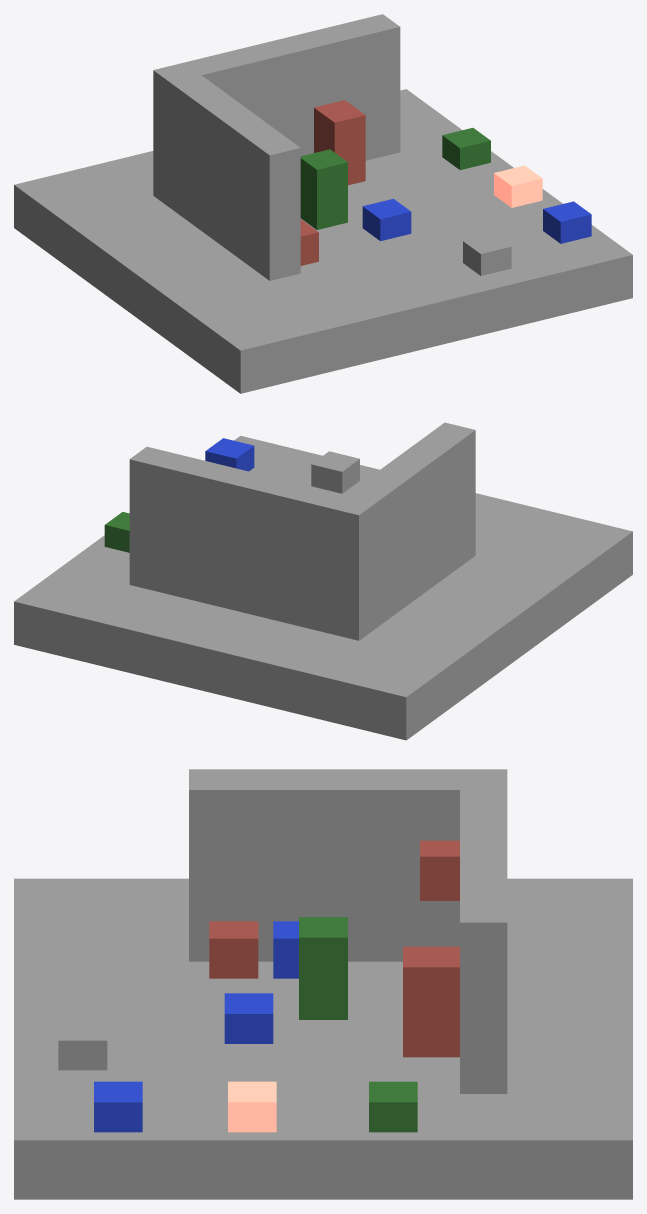
3 views of the same model, one above another, from view 1: azimuth 30°, elevation 25°; view 2: azimuth 150°, elevation 25°; view 3: azimuth 270°, elevation 25° (orthographic). The views are drawn at different scales.
Parts seen in each view (by area): view 1: Plane, Cube.001, Cube, Cube.004, Cube.003, Cube.007, LightCube, Cube.009, Cube.010, Cube.005; view 2: Plane, Cube.001, Cube.010, Cube.007, Cube.009; view 3: Plane, Cube.001, Cube.004, Cube, Cube.005, Cube.003, Cube.010, Cube.007, LightCube, Cube.009, Cube.002, Cube.006.
Part boxes in pixels (bbox=[...]): Plane: bbox=[14, 89, 632, 393]; Cube.001: bbox=[153, 14, 400, 280]; Cube: bbox=[300, 149, 347, 229]; Cube.004: bbox=[314, 100, 365, 185]; Cube.003: bbox=[362, 198, 411, 241]; Cube.007: bbox=[543, 201, 591, 243]; LightCube: bbox=[494, 165, 542, 207]; Cube.009: bbox=[442, 128, 490, 169]; Cube.010: bbox=[463, 233, 511, 275]; Cube.005: bbox=[300, 219, 318, 265]; Plane: bbox=[14, 435, 632, 740]; Cube.001: bbox=[129, 422, 475, 640]; Cube.010: bbox=[311, 451, 359, 493]; Cube.007: bbox=[205, 438, 254, 471]; Cube.009: bbox=[104, 512, 129, 552]; Plane: bbox=[14, 878, 632, 1199]; Cube.001: bbox=[189, 769, 507, 1093]; Cube.004: bbox=[403, 946, 459, 1057]; Cube: bbox=[299, 917, 347, 1019]; Cube.005: bbox=[209, 921, 258, 978]; Cube.003: bbox=[224, 993, 273, 1043]; Cube.010: bbox=[58, 1020, 107, 1070]; Cube.007: bbox=[94, 1081, 142, 1132]; LightCube: bbox=[228, 1081, 276, 1132]; Cube.009: bbox=[369, 1081, 417, 1132]; Cube.002: bbox=[420, 840, 459, 900]; Cube.006: bbox=[273, 921, 298, 978].
Size of the model in its own units: 25.36 by 10.42 by 25.36.
